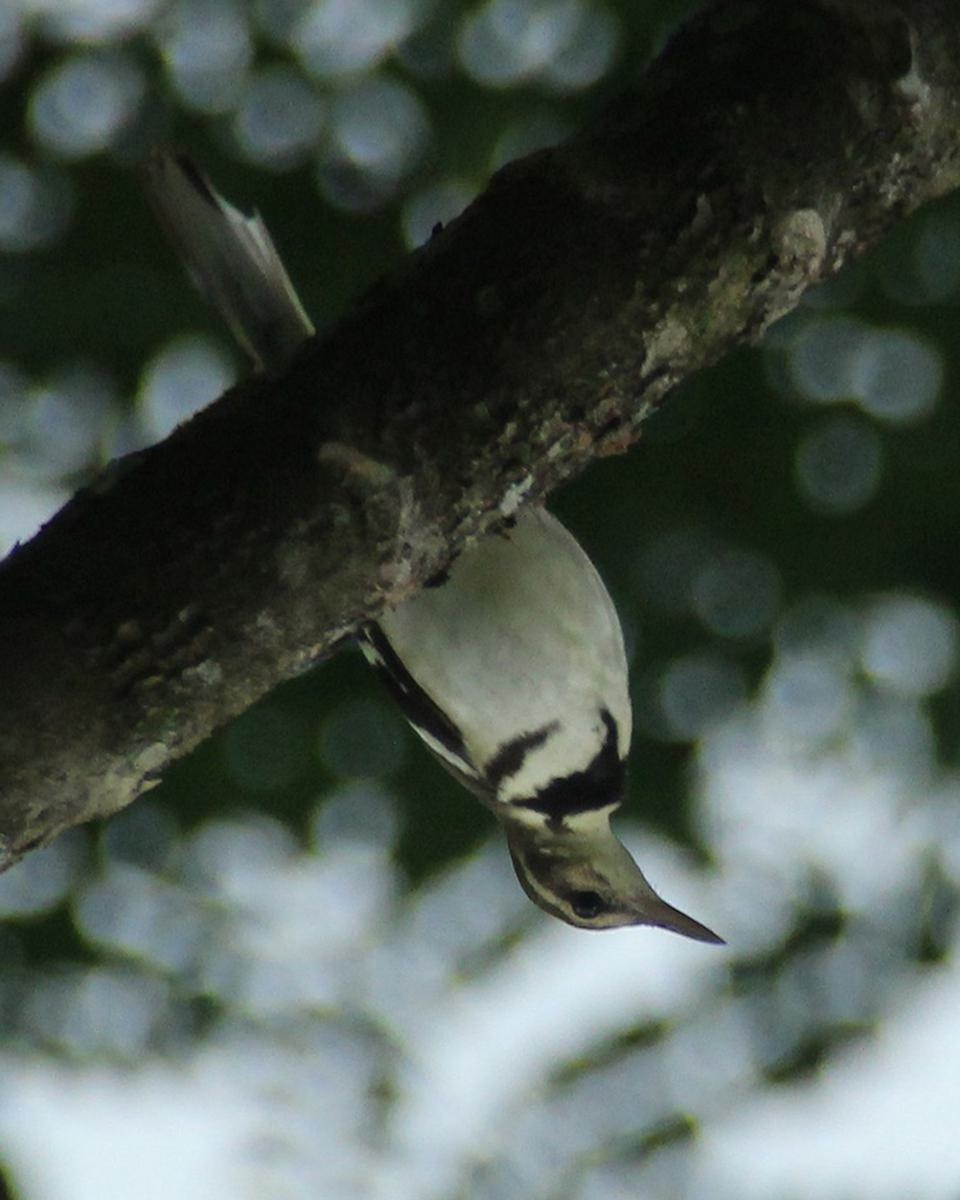wagtail: (268, 347, 748, 956)
